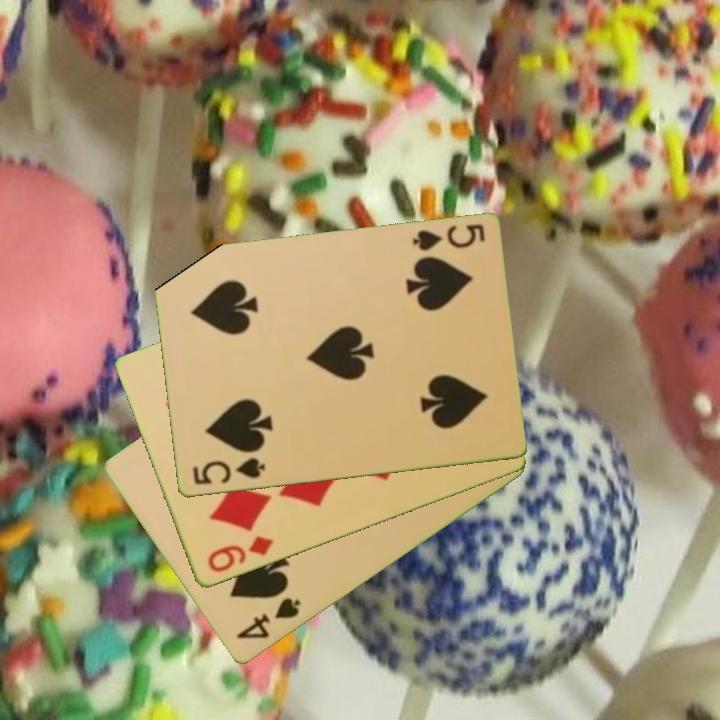4s: (232, 594, 304, 643)
5s: (188, 454, 268, 488), (409, 221, 487, 254)
9d: (203, 532, 277, 576)
